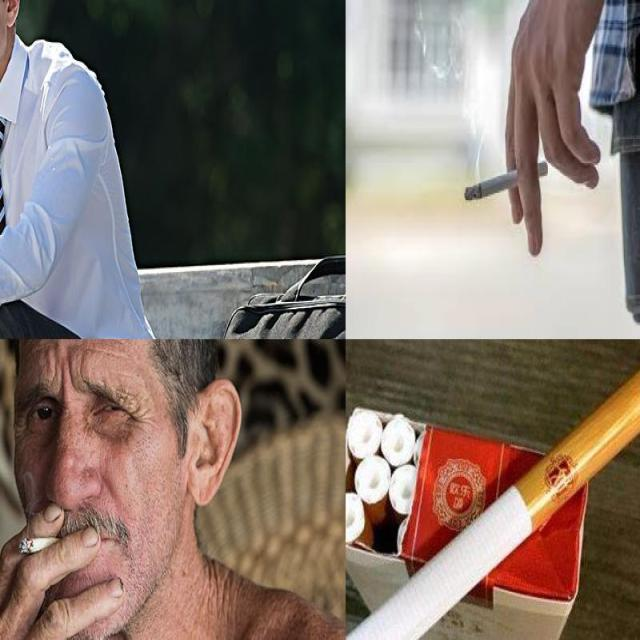smoking: (346, 358, 640, 639), (464, 162, 548, 202), (15, 530, 67, 558)
